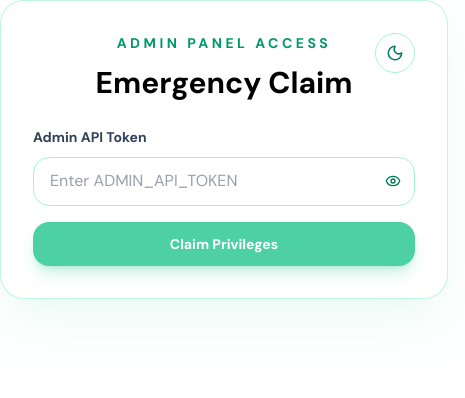
Scenario: AdminPage Emergency Claim UI › shows error message on claim failure
Type "wrong-token" into the password field with placeholder "Enter ADMIN_API_TOKEN" at (224, 181), box 33,157 -> 415,206
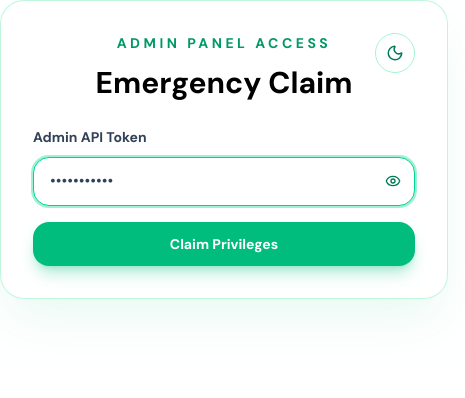
Click the button "Claim Privileges" at (224, 244), box 33,222 -> 415,266
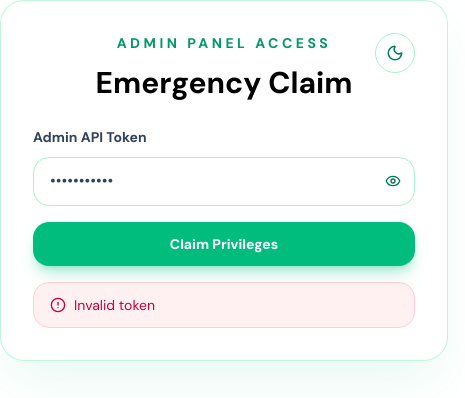
Now the text "Invalid token" is shown, box 74,295 -> 155,315
